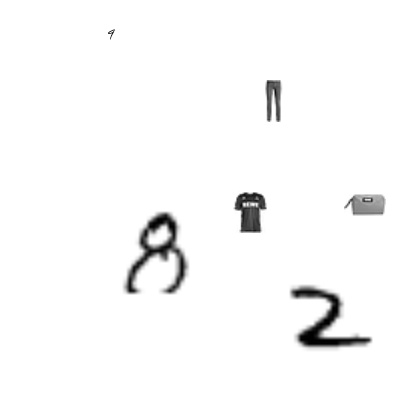2: (267, 266, 379, 378)
8: (100, 193, 212, 305)
9: (104, 26, 118, 40)
Bag: (344, 184, 386, 226)
T-shirt/top: (229, 191, 271, 233)
Trouser: (252, 80, 294, 122)
